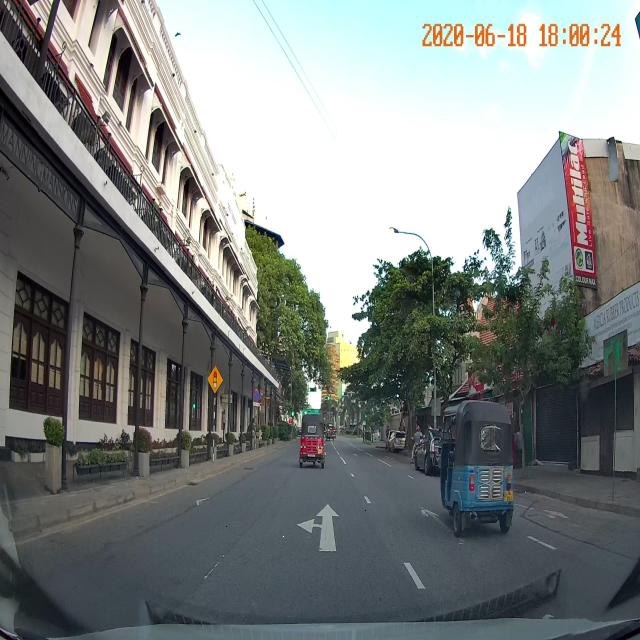forward_lft: (221, 486, 419, 562)
